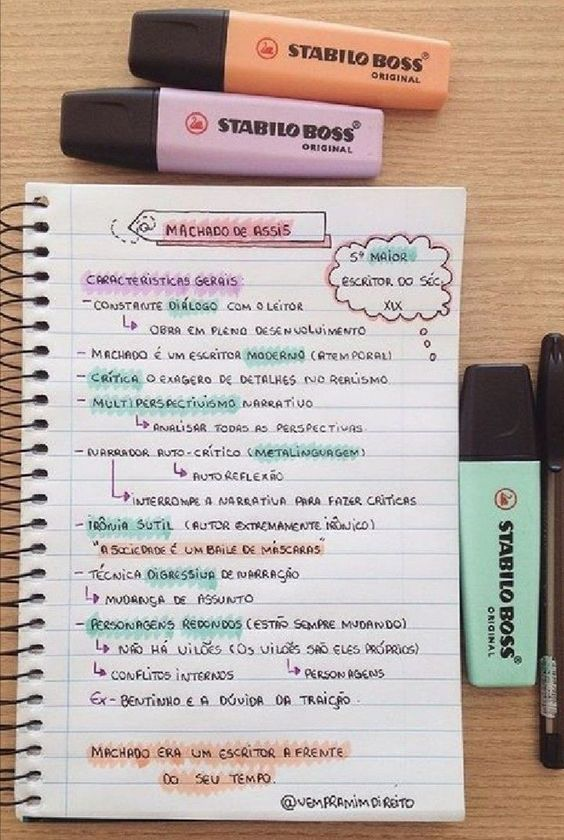page: (54, 189, 461, 819)
